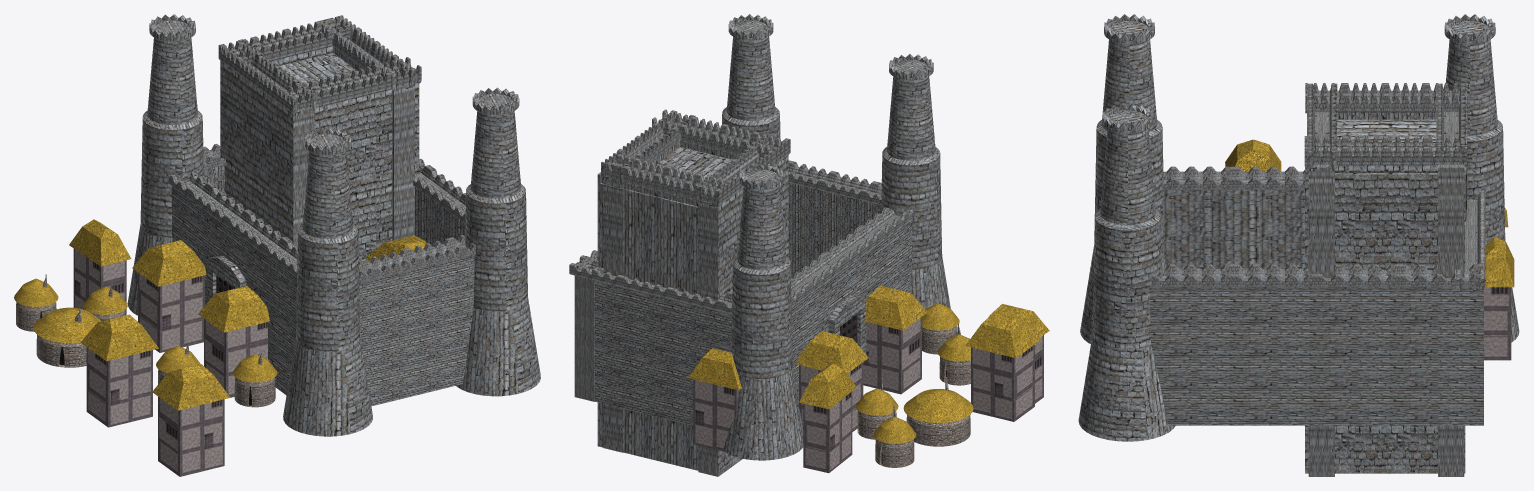
Rendered from Castle 3.obj.
3 views of the same model, side by side, from view 1: azimuth 30°, elevation 25°; view 2: azimuth 150°, elevation 25°; view 3: azimuth 270°, elevation 25° (orthographic). The views are drawn at different scales.
Parts seen in each view (by area): view 1: Plane.003_Plane.004, Plane.002_Plane.003, Cube.017_Cube.020, Cube.005_Cube.028, Plane.001_Plane.008, Cube.018_Cube.024, Cube.004_Cube.029, Plane.004_Plane.021, Plane.019_Plane.024, Plane.014_Plane.017, Cube.024_Cube.033, Cube.002_Cube.023 (+25 smaller); view 2: Plane.001_Plane.008, Cube.000_Cube.021, Cube.023_Cube.032, Plane.003_Plane.004, Cube.018_Cube.024, Cube.005_Cube.028, Plane.002_Plane.003, Cube.017_Cube.020, Plane.019_Plane.024, Plane.013_Plane.016, Plane.009_Plane.012, Cube.024_Cube.033 (+29 smaller); view 3: Cube.019_Cube.025, Plane.002_Plane.003, Cube.024_Cube.033, Cube.018_Cube.024, Plane.001_Plane.008, Plane.003_Plane.004, Cube.020_Cube.026, Cube.023_Cube.032, Cube.004_Cube.029, Cube.025_Cube.034, Cube.021_Cube.027, Cube.002_Cube.023 (+9 smaller).
Part boxes in pixels (x1,y1,x2,y2): Plane.003_Plane.004: (283,128,372,436); Plane.002_Plane.003: (456,87,540,396); Cube.017_Cube.020: (359,248,474,406); Cube.005_Cube.028: (220,60,314,246); Plane.001_Plane.008: (127,14,203,315); Cube.018_Cube.024: (171,181,297,395); Cube.004_Cube.029: (314,81,419,259); Plane.004_Plane.021: (158,396,224,476); Plane.019_Plane.024: (86,347,152,427); Plane.014_Plane.017: (138,273,204,352); Cube.024_Cube.033: (333,41,414,240); Cube.002_Cube.023: (168,170,297,277); Plane.001_Plane.008: (723,163,803,460); Cube.000_Cube.021: (595,273,731,425); Cube.023_Cube.032: (597,172,698,470); Plane.003_Plane.004: (881,54,950,309); Cube.018_Cube.024: (791,215,912,402); Cube.005_Cube.028: (698,155,788,476); Plane.002_Plane.003: (722,14,780,141); Cube.017_Cube.020: (788,172,881,278); Plane.019_Plane.024: (971,344,1034,421); Plane.013_Plane.016: (863,317,921,394); Plane.009_Plane.012: (803,391,852,472); Cube.024_Cube.033: (603,135,680,452); Cube.019_Cube.025: (1149,276,1483,425); Plane.002_Plane.003: (1078,103,1175,441); Cube.024_Cube.033: (1305,153,1465,473); Cube.018_Cube.024: (1162,179,1304,268); Plane.001_Plane.008: (1444,14,1519,342); Plane.003_Plane.004: (1080,14,1166,343); Cube.020_Cube.026: (1151,263,1483,287); Cube.023_Cube.032: (1438,100,1464,476); Cube.004_Cube.029: (1308,100,1334,476); Cube.025_Cube.034: (1304,136,1466,166); Cube.021_Cube.027: (1305,83,1467,113); Cube.002_Cube.023: (1162,166,1304,189).
Bounding box in the file's own units: 0.816 × 0.6659 × 0.7396.
7 materials, 7 textured.
